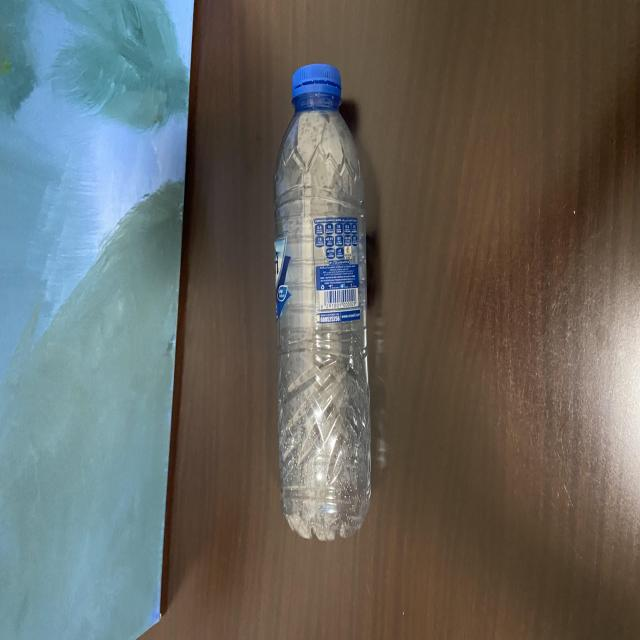plastic: (268, 56, 376, 545)
